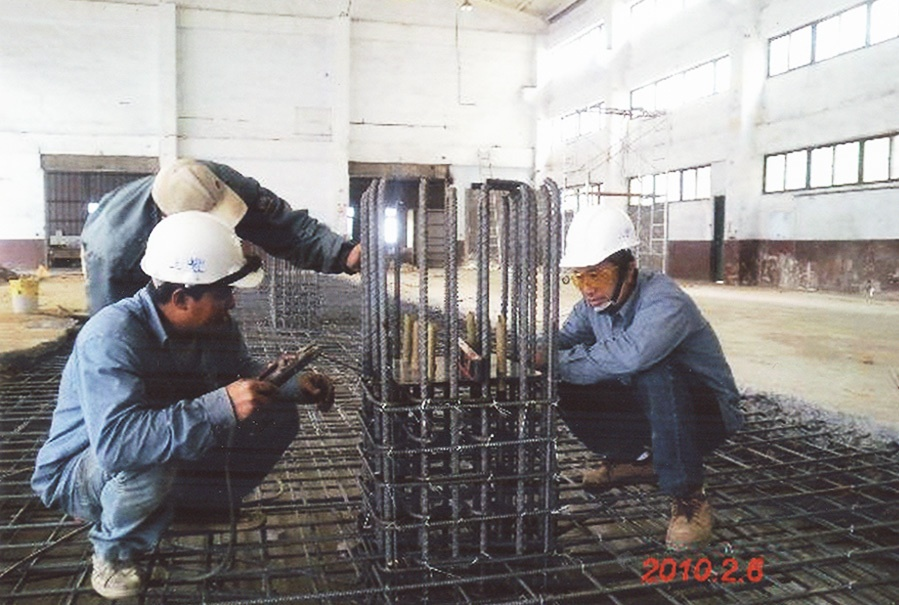white: (137, 207, 247, 329), (562, 198, 641, 313)
